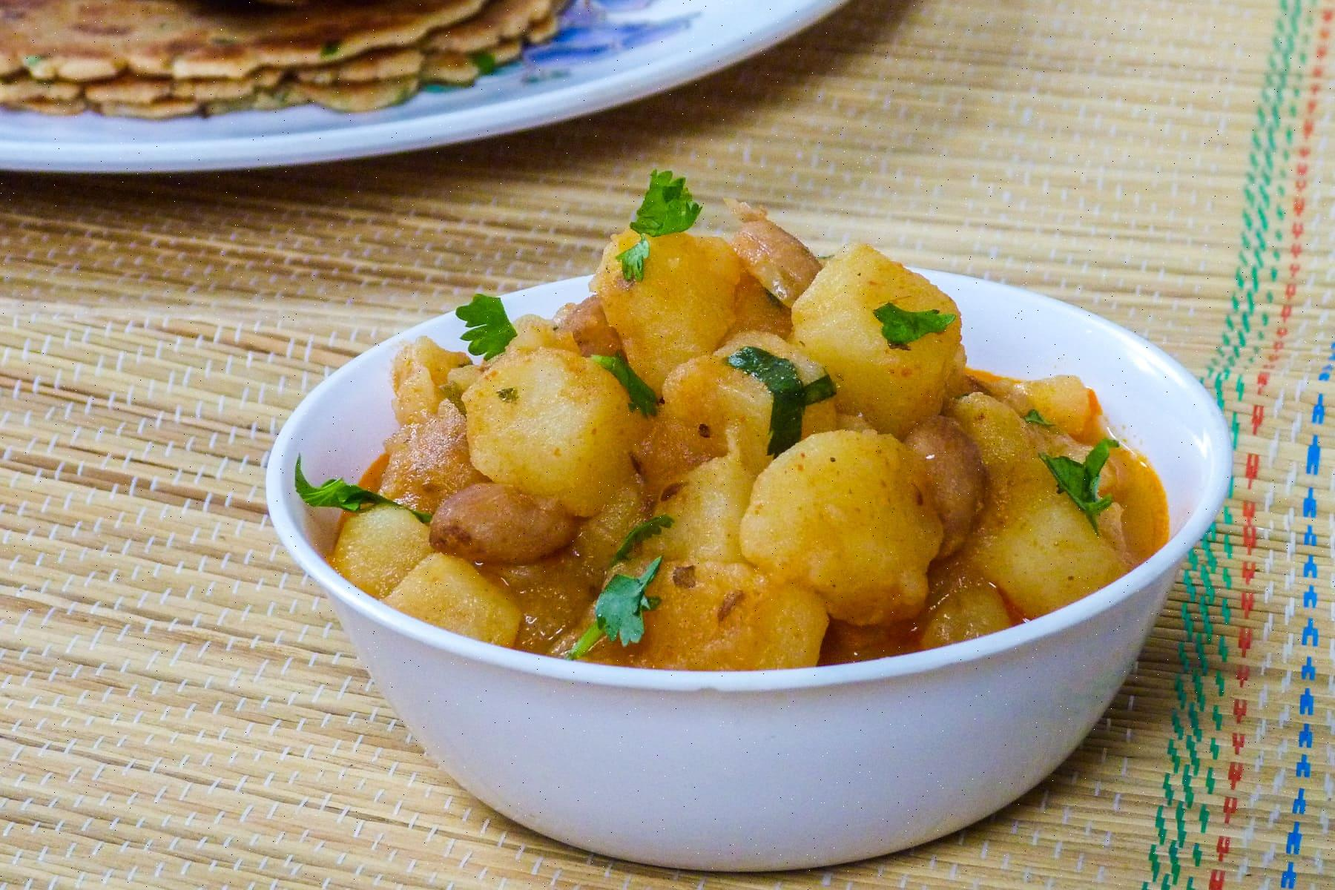aloo sabji: (327, 199, 1159, 688)
